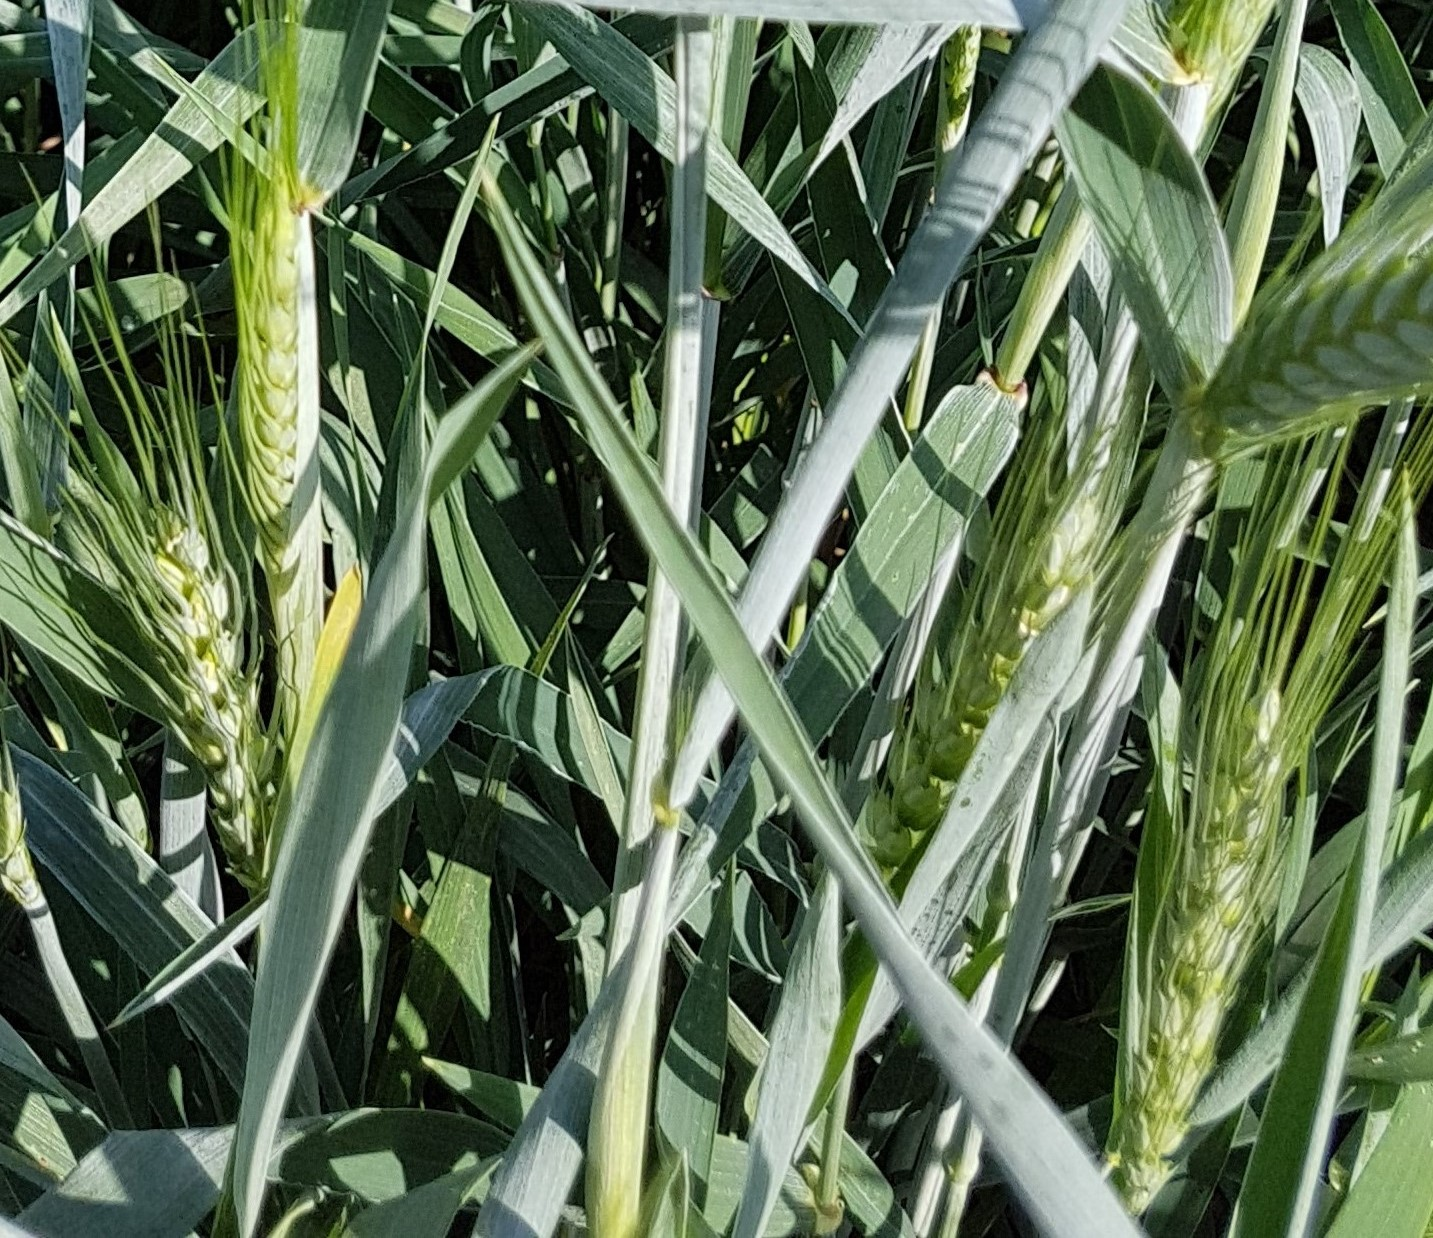Healthy Wheat: (1092, 702, 1305, 1194), (849, 445, 1082, 876), (104, 514, 313, 900)
